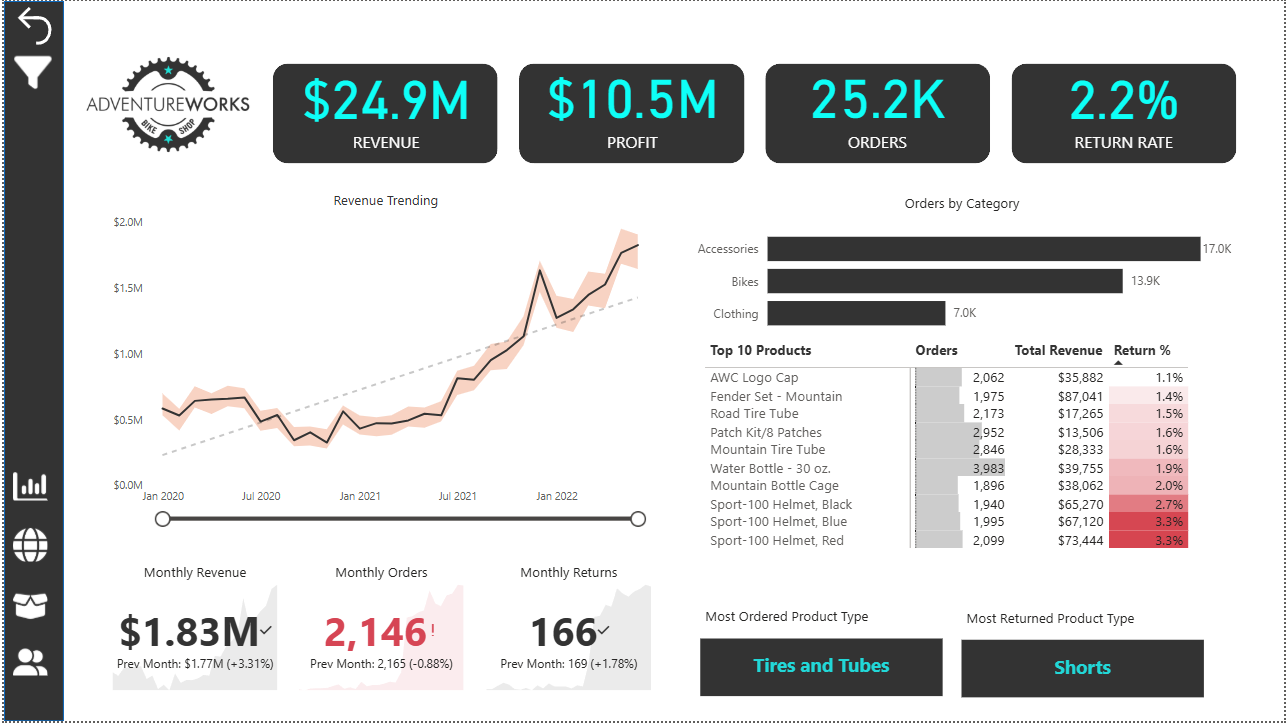

The page's visual inventory and layout, read from the dashboard file:
{"tool":"powerbi","page":{"name":"Exec Dashboard","canvas":[1280,720],"ordinal":0},"visuals":[{"type":"image","title":"AW logo","box":[60.3,0,209,206.4],"z":0},{"type":"card","fields":{"Values":["Measure Table.Total Revenue"]},"box":[261.5,37.2,242.3,130],"z":0,"group":"g2"},{"type":"group","id":"g1","title":"KPI Backgrounds","box":[269.2,61.9,963.5,100],"z":0,"group":"g3"},{"type":"shape","title":"Shape","box":[269.2,61.9,225,100],"z":0,"group":"g1"},{"type":"actionButton","box":[5.3,448,50.7,69.3],"z":0,"group":"g4"},{"type":"shape","title":"Left pane selection","box":[0,0,59.9,720.2],"z":1000},{"type":"group","id":"g2","title":"KPI Values","box":[261.5,37.2,979.5,130.8],"z":1000,"group":"g3"},{"type":"card","fields":{"Values":["Measure Table.Total Profit"]},"box":[507.2,37.2,242.3,129.5],"z":1000,"group":"g2"},{"type":"shape","box":[515.1,61.9,225.6,100],"z":1000,"group":"g1"},{"type":"actionButton","box":[5.3,504,50.7,76],"z":1000,"group":"g4"},{"type":"group","id":"g3","title":"KPIs","box":[261.5,37.2,979.5,130.8],"z":2000},{"type":"card","fields":{"Values":["Measure Table.Total Orders"]},"box":[753,37.2,242.3,129.5],"z":2000,"group":"g2"},{"type":"shape","box":[761.7,61.9,225,100],"z":2000,"group":"g1"},{"type":"actionButton","box":[5.3,566.7,50.7,69.3],"z":2000,"group":"g4"},{"type":"card","fields":{"Values":["Measure Table.Return Rate"]},"box":[998.7,37.2,242.3,130.8],"z":3000,"group":"g2"},{"type":"shape","box":[1007.7,61.9,225,100],"z":3000,"group":"g1"},{"type":"lineChart","title":"Revenue Trending","fields":{"Y":["Measure Table.Total Revenue"],"Category":["Calendar Lookup.Start of Month"]},"box":[103.9,189.5,556.4,338.7],"z":3000},{"type":"actionButton","box":[5.3,622.7,50.7,69.3],"z":3000,"group":"g4"},{"type":"kpi","title":"Monthly Revenue","fields":{"Indicator":["Measure Table.Total Revenue"],"Goal":["Measure Table.Previous Month Revenue"],"TrendLine":["Calendar Lookup.Start of Month"]},"box":[103.9,561.3,174.9,133.3],"z":4000},{"type":"kpi","title":"Monthly Orders","fields":{"Goal":["Measure Table.Previous Month Orders"],"TrendLine":["Calendar Lookup.Start of Month"],"Indicator":["Measure Table.Total Orders"]},"box":[290.4,561.3,174.9,133.3],"z":5000},{"type":"kpi","title":"Monthly Returns","fields":{"TrendLine":["Calendar Lookup.Start of Month"],"Indicator":["Measure Table.Total Return"],"Goal":["Measure Table.Previous Month Returns"]},"box":[476.9,561.3,174.9,133.3],"z":6000},{"type":"barChart","title":"Orders by Category","fields":{"Category":["Product Categories Lookup.CategoryName"],"Y":["Measure Table.Total Orders"]},"box":[683.3,192.3,548.7,151.3],"z":7000},{"type":"pivotTable","fields":{"Rows":["Product Lookup.ProductName"],"Values":["Measure Table.Total Orders","Measure Table.Total Revenue","Measure Table.Return Rate"]},"box":[695.8,335.1,545.4,226.2],"z":8000},{"type":"card","fields":{"Values":["Min(Product Subcategories Lookup.SubcategoryName)"]},"box":[696.2,637.2,242.3,57.7],"z":9000},{"type":"textbox","box":[695.8,601.6,229.9,35.5],"z":10000},{"type":"card","fields":{"Values":["Min(Product Subcategories Lookup.SubcategoryName)"]},"box":[957.7,638.5,242.3,57.7],"z":11000},{"type":"textbox","box":[957.5,602.9,229.9,35.5],"z":12000},{"type":"actionButton","box":[6.7,0,49.3,49.3],"z":13000},{"type":"group","id":"g4","title":"Navigation Buttons","box":[5.3,448,50.7,244],"z":14000},{"type":"actionButton","box":[6.7,49.3,50.7,45.3],"z":15000}]}

Visuals, with their boxes on the page's 1280x720 design canvas (x1, y1, x2, y2). These are canvas units, not pixel positions in the 1286x724 screenshot, which may show the page scaled, cropped or inside an application window:
"AW logo" image: (x1=60, y1=0, x2=269, y2=206)
card - Measure Table.Total Revenue: (x1=262, y1=37, x2=504, y2=167)
"KPI Backgrounds" group: (x1=269, y1=62, x2=1233, y2=162)
"Shape" shape: (x1=269, y1=62, x2=494, y2=162)
actionButton: (x1=5, y1=448, x2=56, y2=517)
"Left pane selection" shape: (x1=0, y1=0, x2=60, y2=720)
"KPI Values" group: (x1=262, y1=37, x2=1241, y2=168)
card - Measure Table.Total Profit: (x1=507, y1=37, x2=750, y2=167)
shape: (x1=515, y1=62, x2=741, y2=162)
actionButton: (x1=5, y1=504, x2=56, y2=580)
"KPIs" group: (x1=262, y1=37, x2=1241, y2=168)
card - Measure Table.Total Orders: (x1=753, y1=37, x2=995, y2=167)
shape: (x1=762, y1=62, x2=987, y2=162)
actionButton: (x1=5, y1=567, x2=56, y2=636)
card - Measure Table.Return Rate: (x1=999, y1=37, x2=1241, y2=168)
shape: (x1=1008, y1=62, x2=1233, y2=162)
"Revenue Trending" lineChart: (x1=104, y1=190, x2=660, y2=528)
actionButton: (x1=5, y1=623, x2=56, y2=692)
"Monthly Revenue" kpi: (x1=104, y1=561, x2=279, y2=695)
"Monthly Orders" kpi: (x1=290, y1=561, x2=465, y2=695)
"Monthly Returns" kpi: (x1=477, y1=561, x2=652, y2=695)
"Orders by Category" barChart: (x1=683, y1=192, x2=1232, y2=344)
pivotTable - Product Lookup.ProductName x Measure Table.Total Orders: (x1=696, y1=335, x2=1241, y2=561)
card - Min(Product Subcategories Lookup.SubcategoryName): (x1=696, y1=637, x2=938, y2=695)
textbox: (x1=696, y1=602, x2=926, y2=637)
card - Min(Product Subcategories Lookup.SubcategoryName): (x1=958, y1=638, x2=1200, y2=696)
textbox: (x1=958, y1=603, x2=1187, y2=638)
actionButton: (x1=7, y1=0, x2=56, y2=49)
"Navigation Buttons" group: (x1=5, y1=448, x2=56, y2=692)
actionButton: (x1=7, y1=49, x2=57, y2=95)
